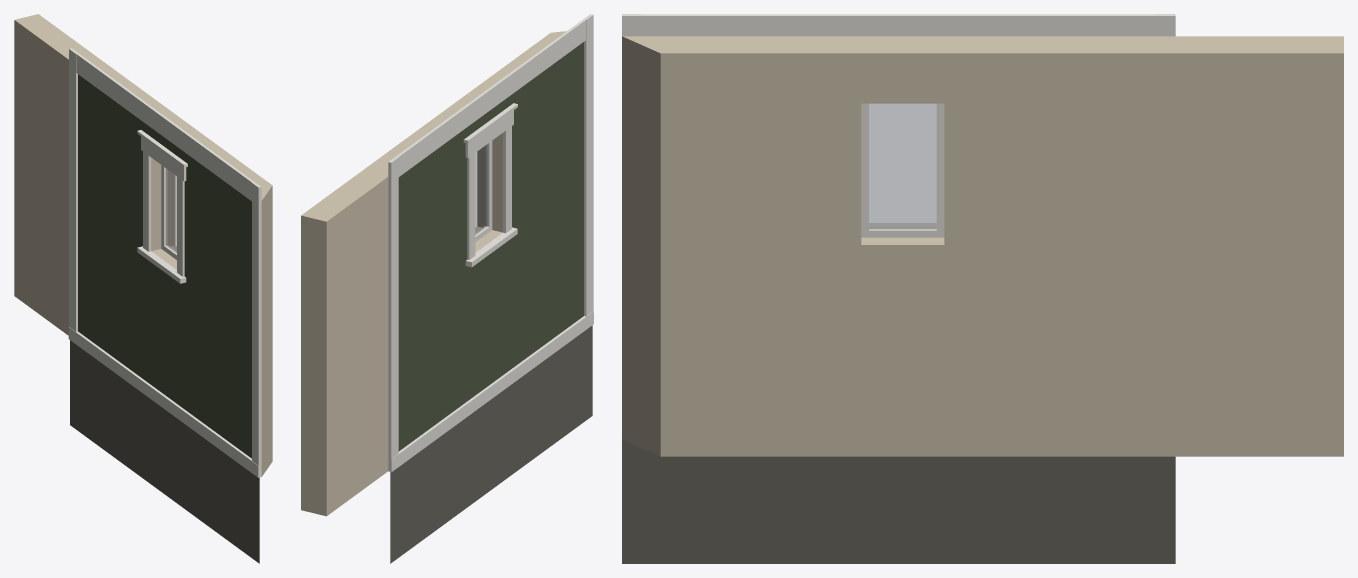
Rendered from wall-07.glb.
The picture shows the model from 3 angles, left to right: view 1: azimuth 30°, elevation 25°; view 2: azimuth 150°, elevation 25°; view 3: azimuth 270°, elevation 25°; orthographic projection. The views are drawn at different scales.
Size of the model in its own units: 0.9294 by 10.9 by 12.98.
